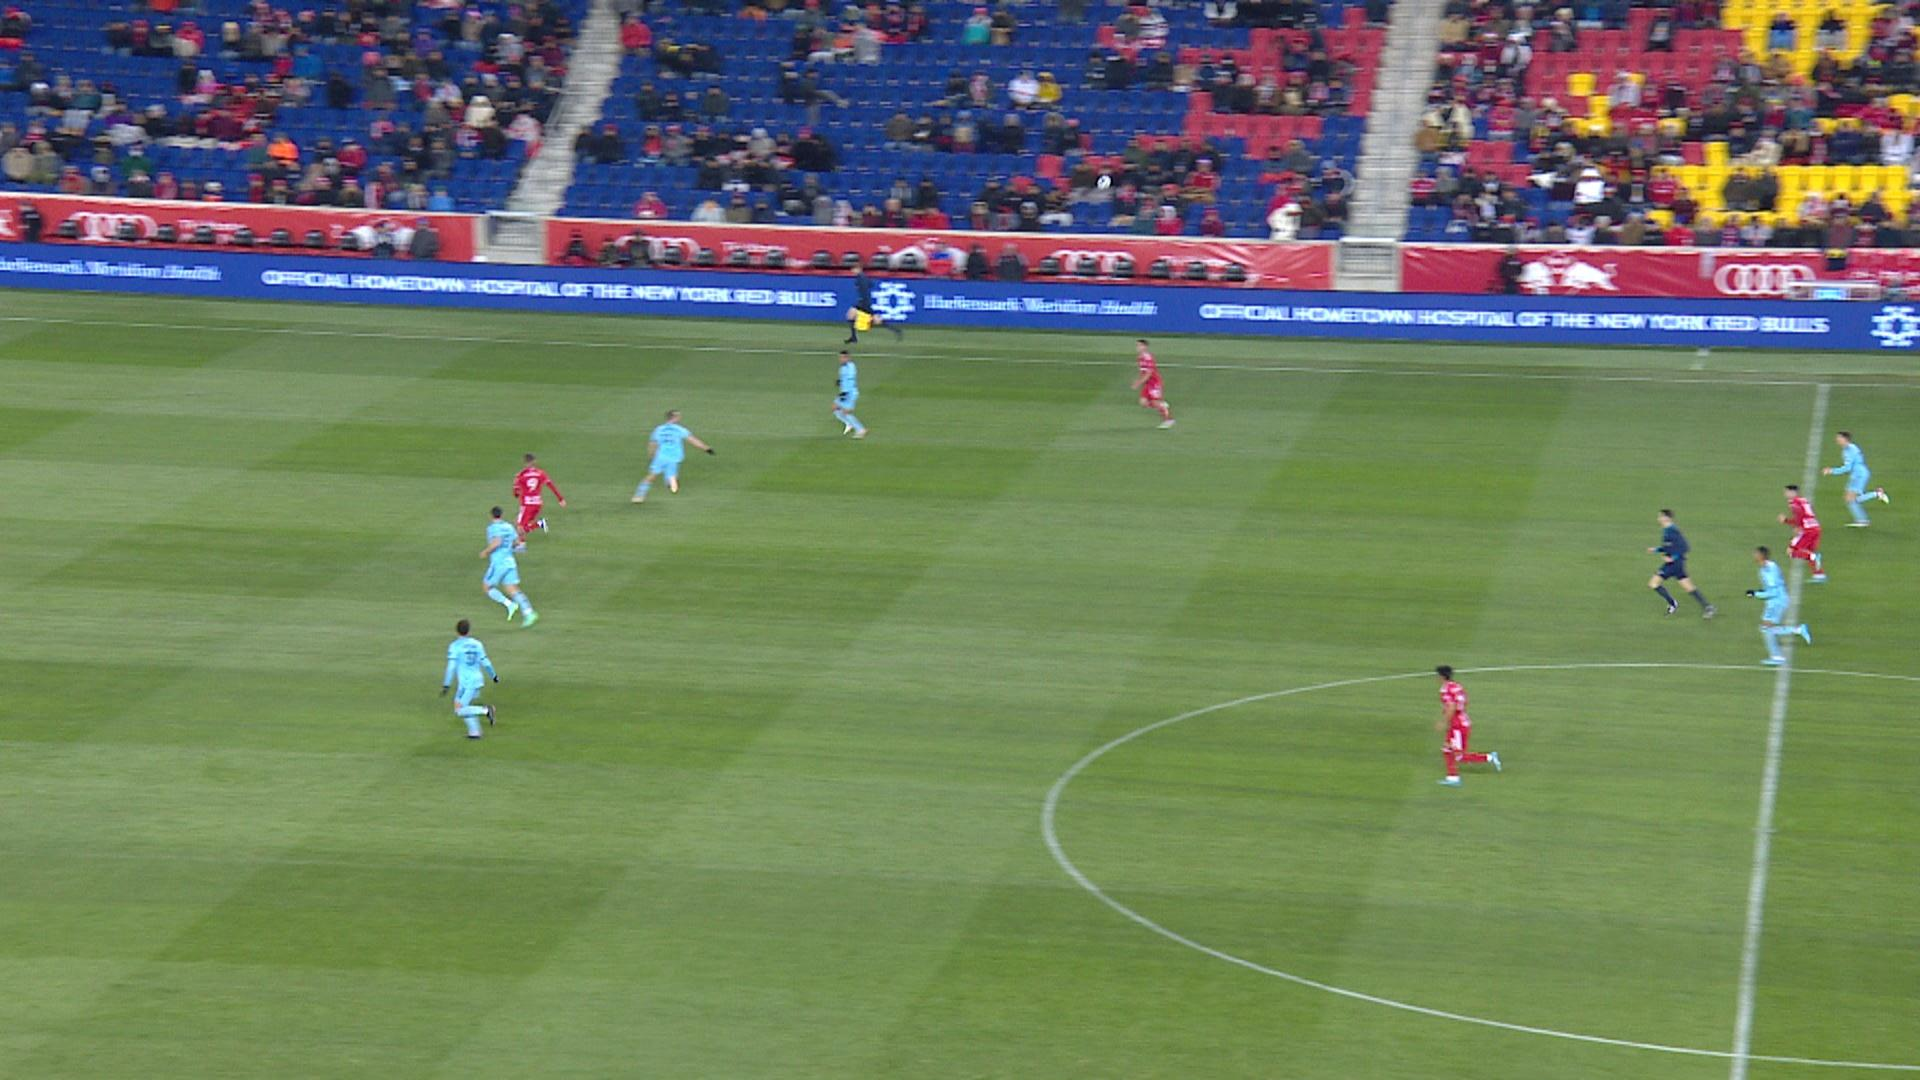football: (1098, 178, 1110, 187)
